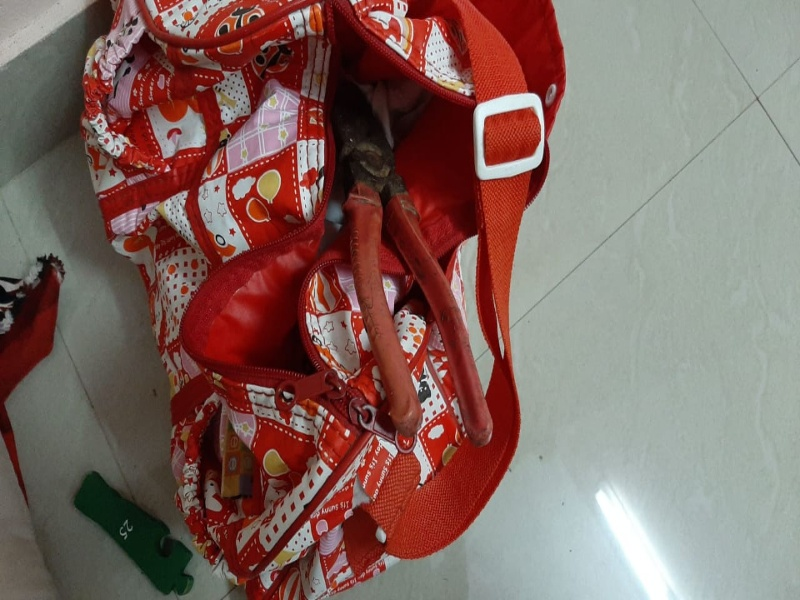cuttingplier: (340, 84, 498, 458)
